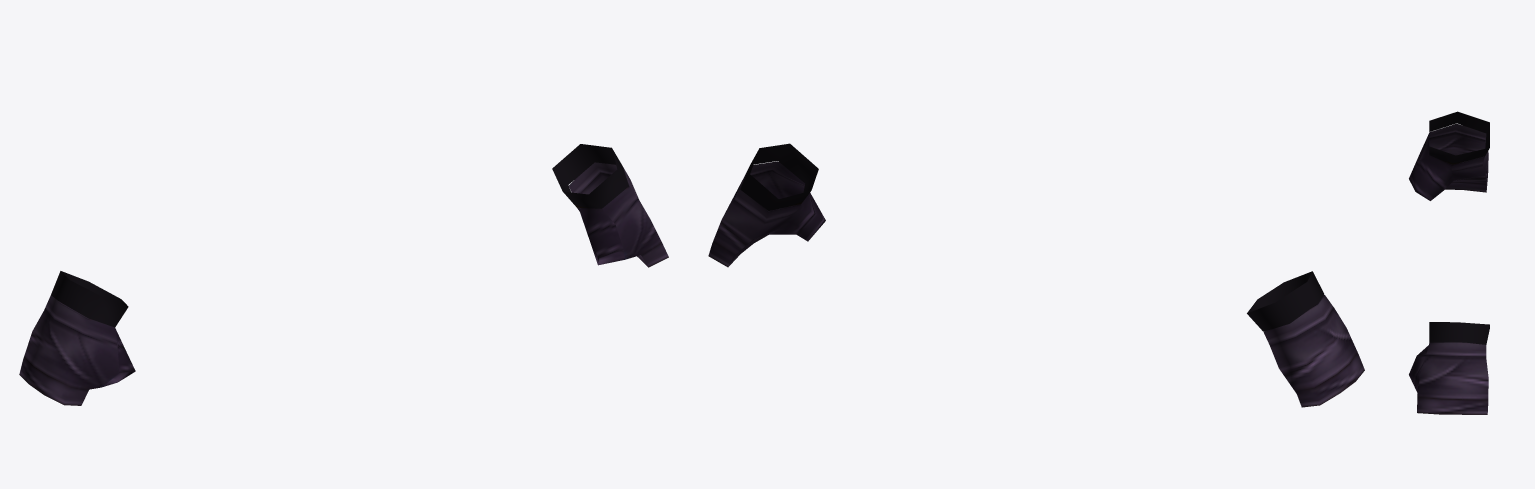
Rendered from hum_netherim_01_cb1fbdc2.glb.
3 views of the same model, side by side, from view 1: azimuth 30°, elevation 25°; view 2: azimuth 150°, elevation 25°; view 3: azimuth 270°, elevation 25° (orthographic). The views are drawn at different scales.
Size of the model in its own units: 1.78 by 0.8227 by 0.3597.
Materials: 1 (1 with a texture image).
